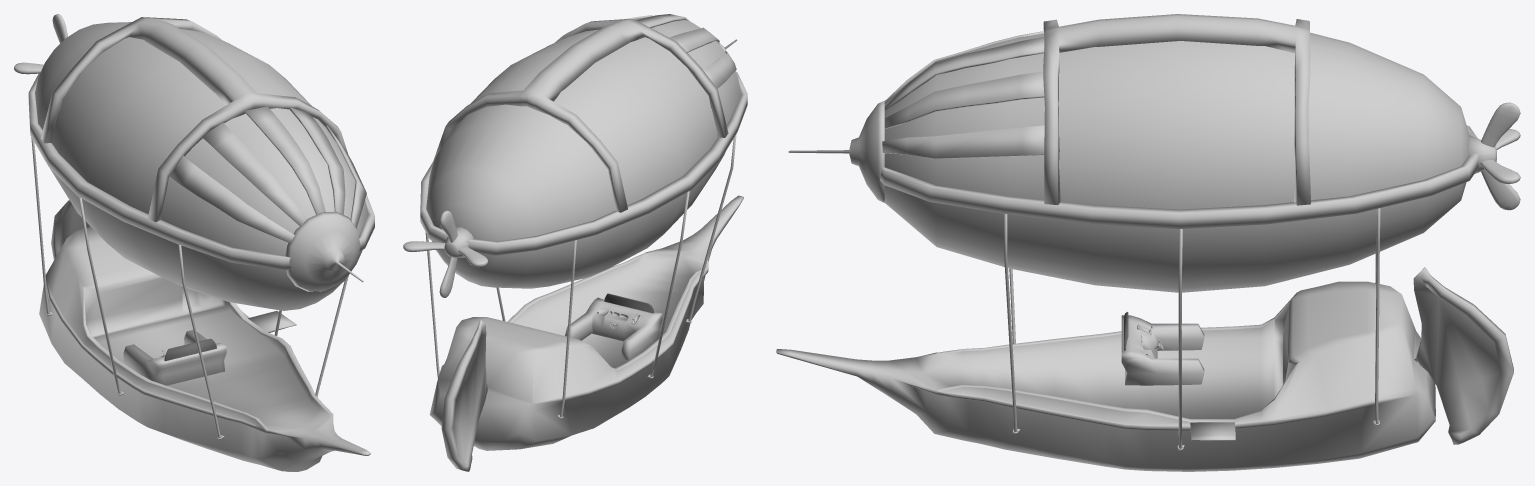
Rendered from LE_Airship.fbx.
3 views of the same model, side by side, from view 1: azimuth 30°, elevation 25°; view 2: azimuth 150°, elevation 25°; view 3: azimuth 270°, elevation 25° (orthographic). The views are drawn at different scales.
Visible parts, largest first — view 1: Airship.005, Airship.006, Airship.007; view 2: Airship.005, Airship.006, Airship.007; view 3: Airship.005, Airship.006.
Part boxes in pixels (x1,y1,x2,y2): Airship.005: (14,14,374,471); Airship.006: (123,330,226,385); Airship.007: (164,338,216,361); Airship.005: (403,14,747,471); Airship.006: (565,297,662,360); Airship.007: (597,293,653,313); Airship.005: (776,14,1520,471); Airship.006: (1121,315,1204,385).
Size of the model in its own units: 1110 by 1652 by 2553.
